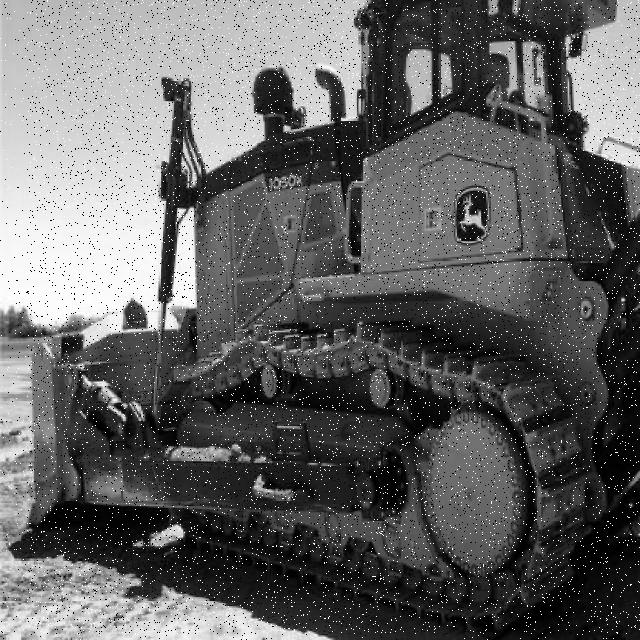Construction Equipment: (27, 0, 640, 634)
